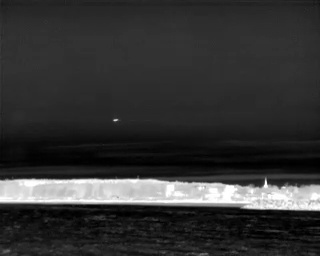BIRD: (111, 116, 121, 126)
